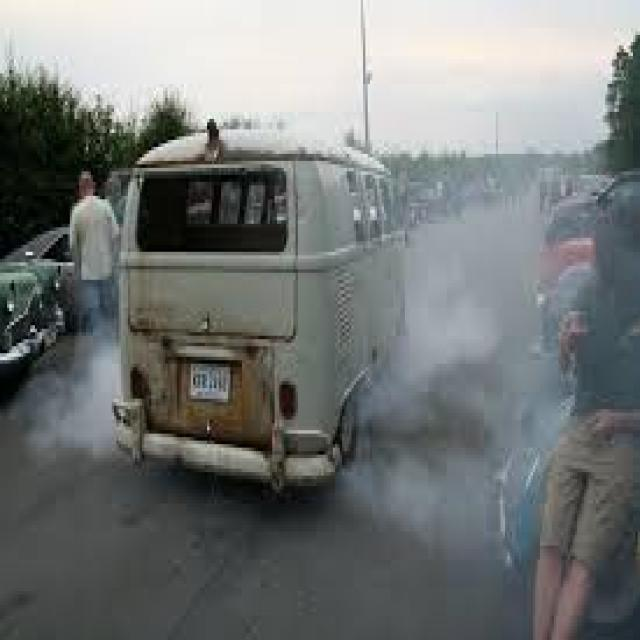Smoke: (370, 193, 570, 566), (46, 349, 126, 462)
